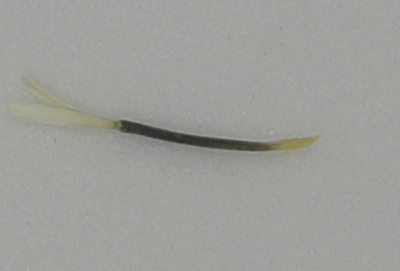เมล็ดดีเรียวยาว: (5, 74, 321, 152)
